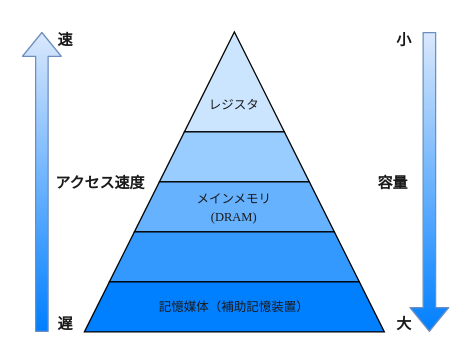
Some shapes in this 470 by 364 pixel diagram are drawn without their labels. Here are the shapes that lost their labels. From the top down, the centre of each, then its label:
At (x=233, y=156): "キャッシュメモリ (SRAM)".
At (x=233, y=256): "ディスクキャッシュ".
